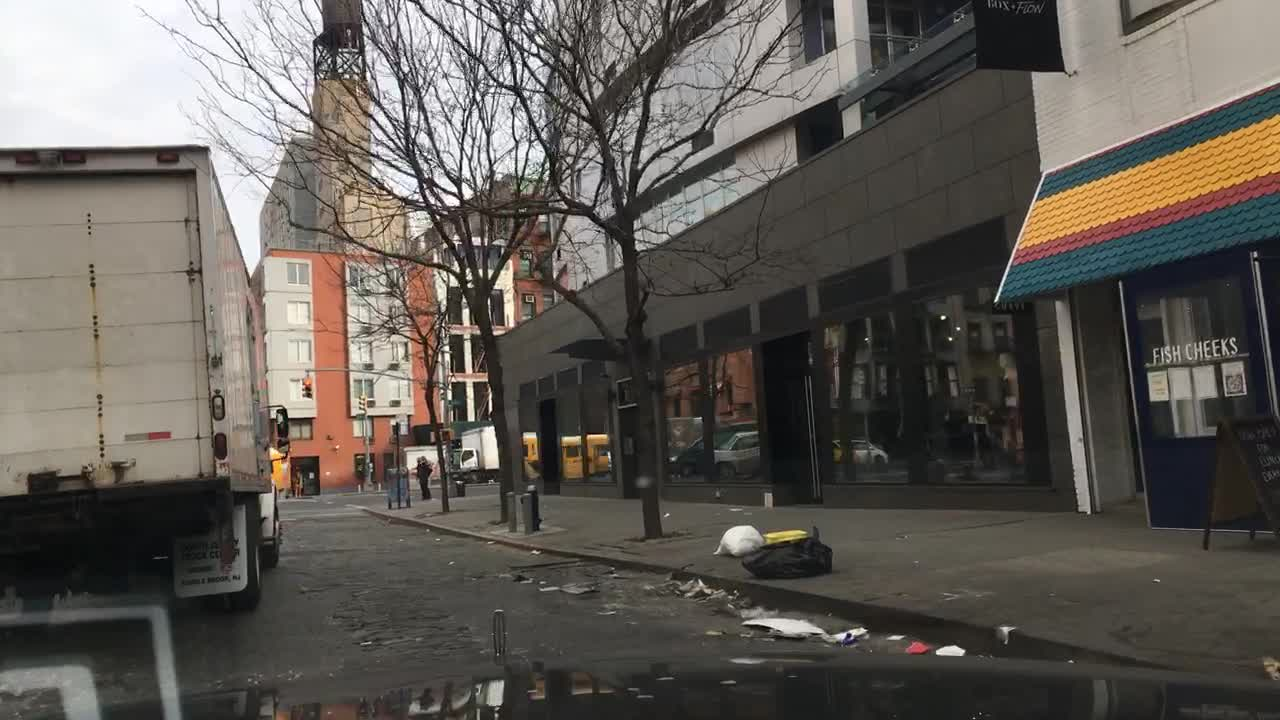person: (414, 455, 426, 501), (420, 457, 432, 500), (290, 465, 304, 498)
traffic light: (300, 374, 315, 398)
truck: (0, 145, 290, 608), (427, 424, 497, 484)
